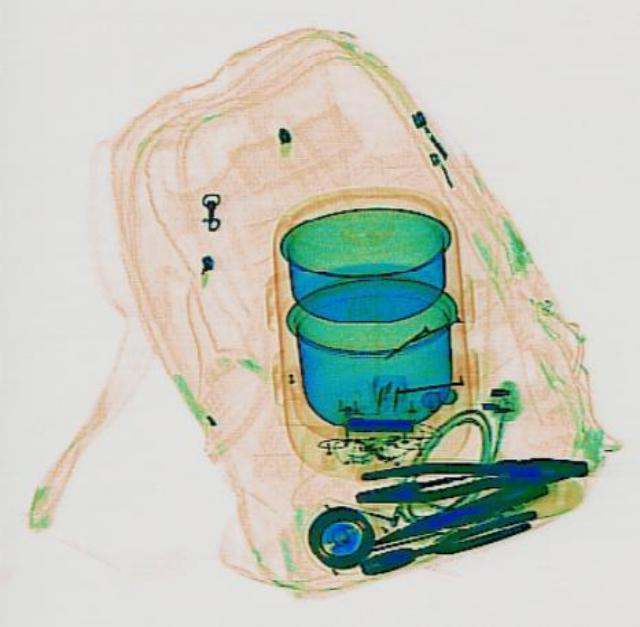Pliers: (350, 446, 590, 504), (355, 505, 541, 577)
